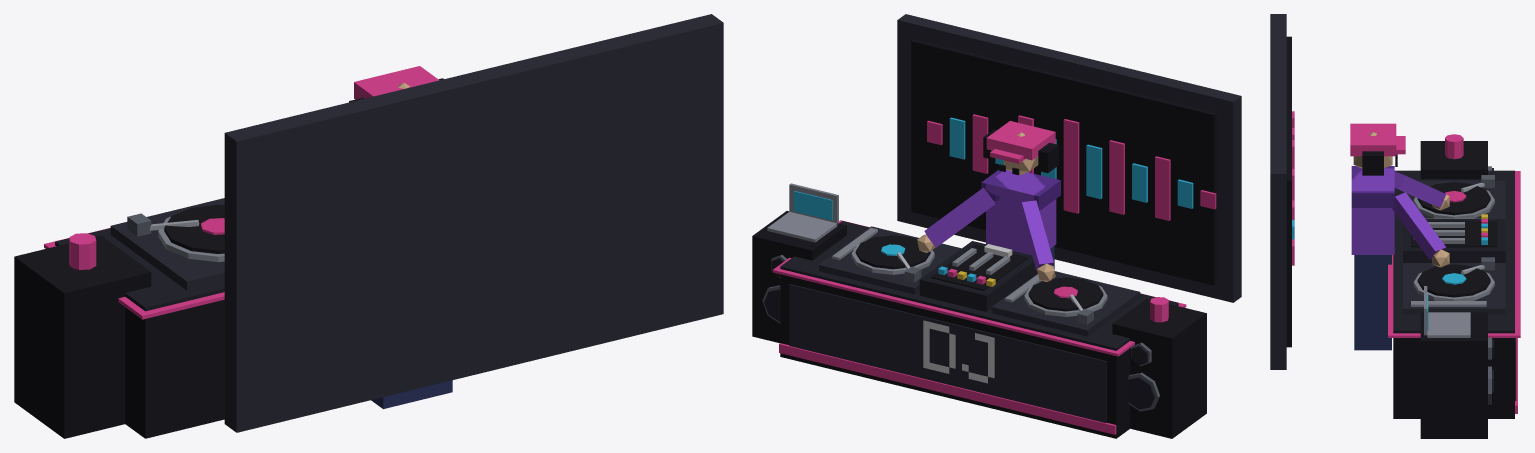
The model's file is Decor_DJStage_Booth.fbx.
The picture shows the model from 3 angles, left to right: view 1: azimuth 30°, elevation 25°; view 2: azimuth 150°, elevation 25°; view 3: azimuth 270°, elevation 25°; orthographic projection. The views are drawn at different scales.
Parts seen in each view (by area): view 1: Booth_Body; view 2: Booth_Body; view 3: Booth_Body.
Part boxes in pixels (<box>): Booth_Body: <box>14,14,723,438</box>; Booth_Body: <box>752,14,1241,438</box>; Booth_Body: <box>1270,14,1520,438</box>.
Size of the model in its own units: 17.5 by 10 by 9.25.
